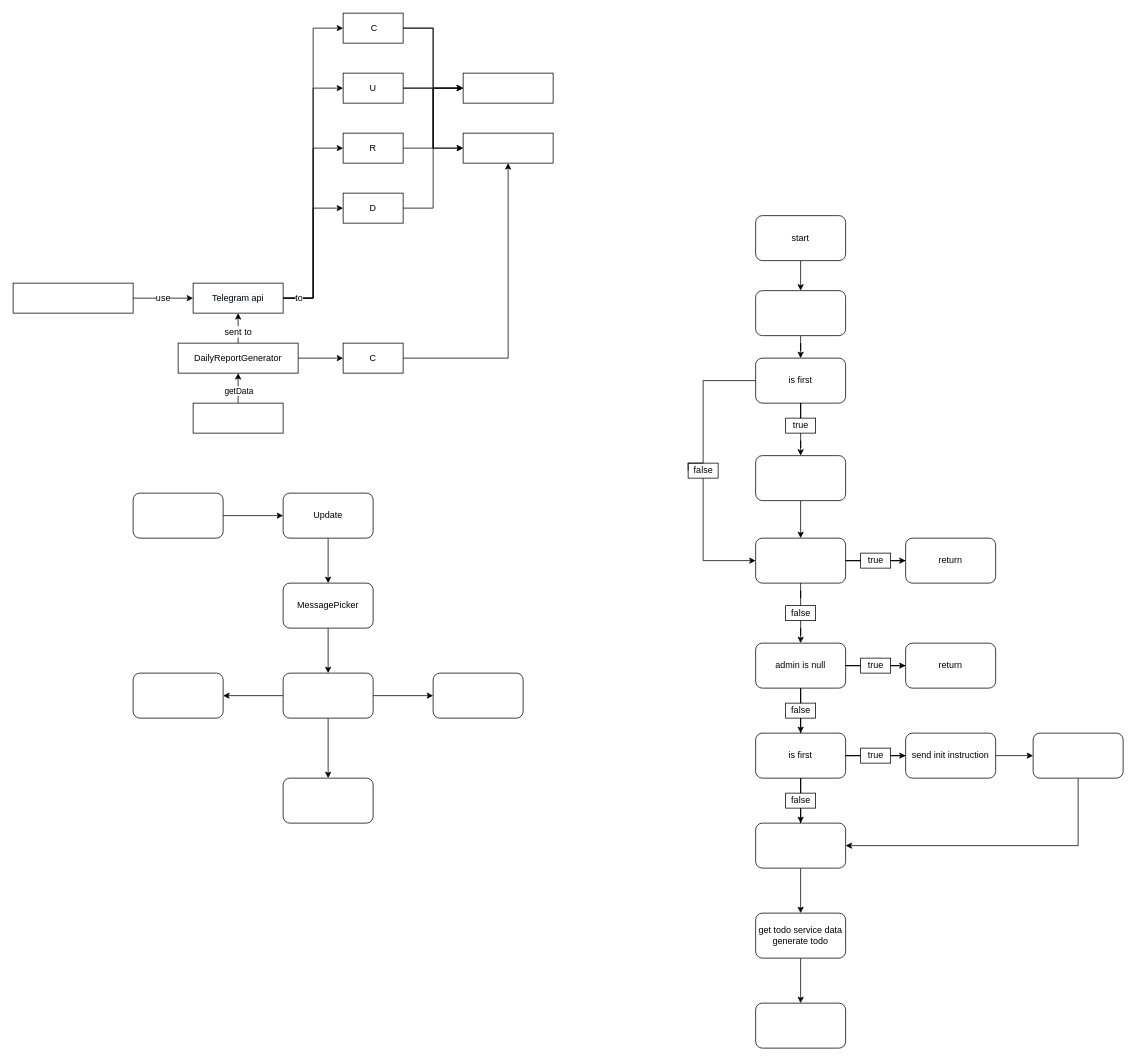
This 1136x1061 diagram has some shape labels left out. The shapes that lost their labels are listed below. From the top down, each one's centre as x and y in pixels, then its label:
At point (507, 87): "MsTodo api".
At point (507, 147): "database".
At point (72, 297): "ToDo System".
At point (800, 313): "read config".
At point (237, 417): "weather api".
At point (800, 478): "set first flag".
At point (177, 515): "TgEventHandler".
At point (800, 560): "token is null".
At point (327, 695): "ParallelCall".
At point (1077, 755): "process init input".
At point (800, 845): "send alive message".
At point (800, 1025): "send daily report start daily report timer".
